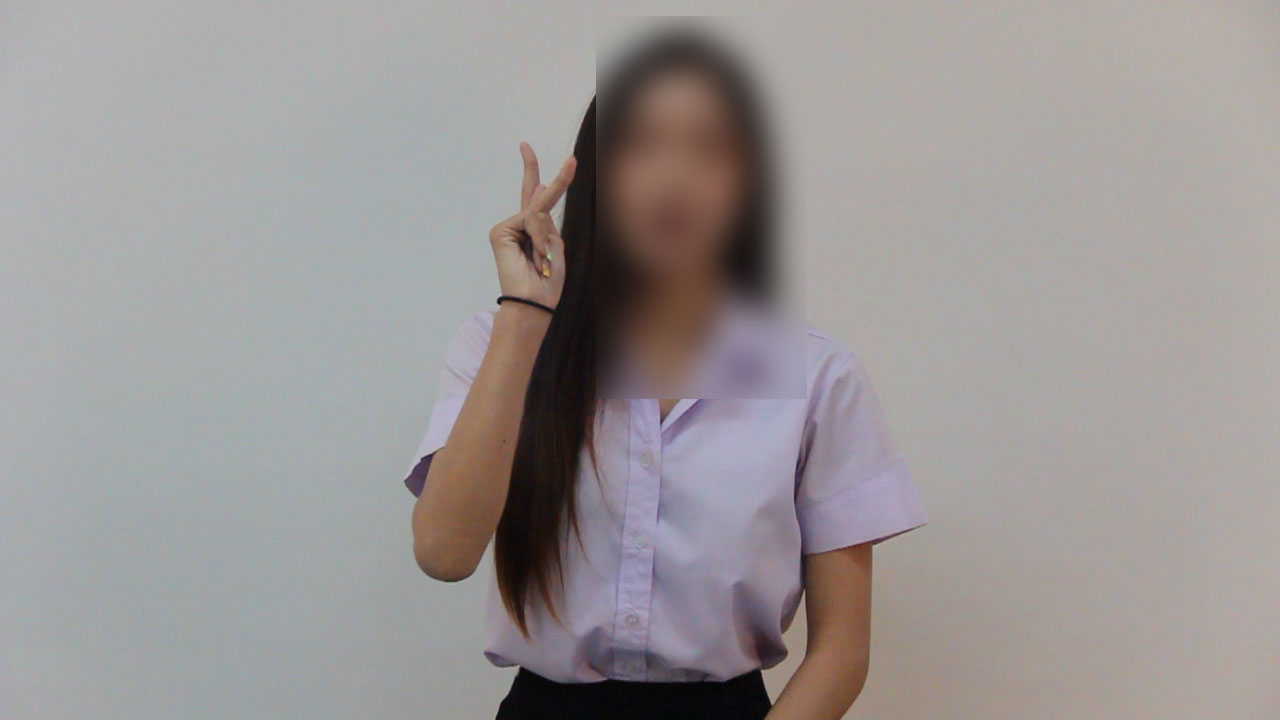ko: (472, 129, 595, 312)
